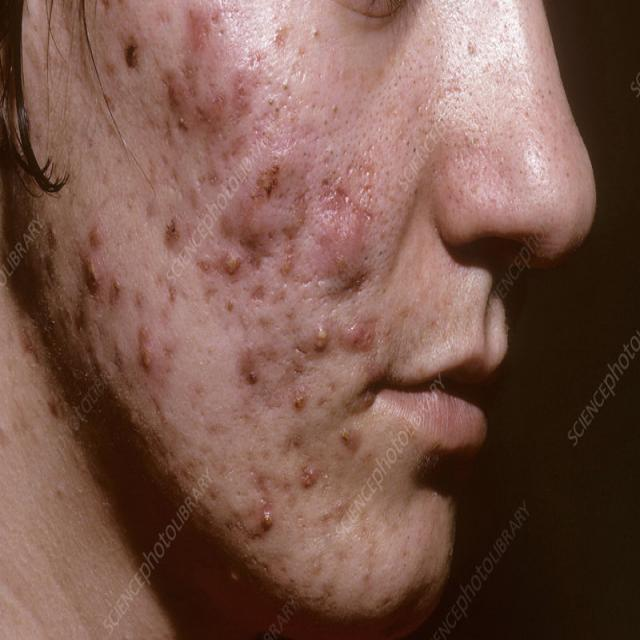Acne: (204, 166, 310, 337), (154, 0, 262, 138), (235, 340, 319, 492), (74, 208, 137, 316), (301, 308, 378, 369), (326, 192, 372, 286), (318, 126, 378, 195), (304, 572, 366, 625), (36, 214, 63, 318), (133, 332, 174, 392), (332, 408, 374, 457), (244, 495, 284, 544), (159, 194, 186, 250), (122, 34, 146, 85), (42, 374, 67, 414)
